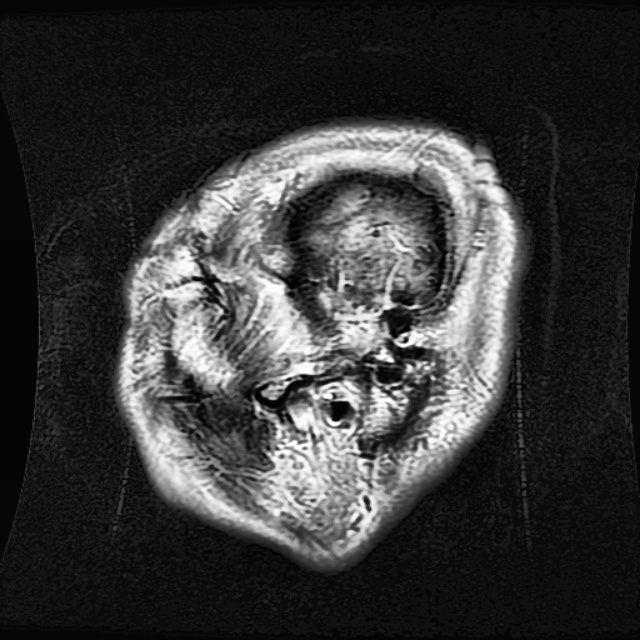Meningioma: (330, 279, 383, 310)
